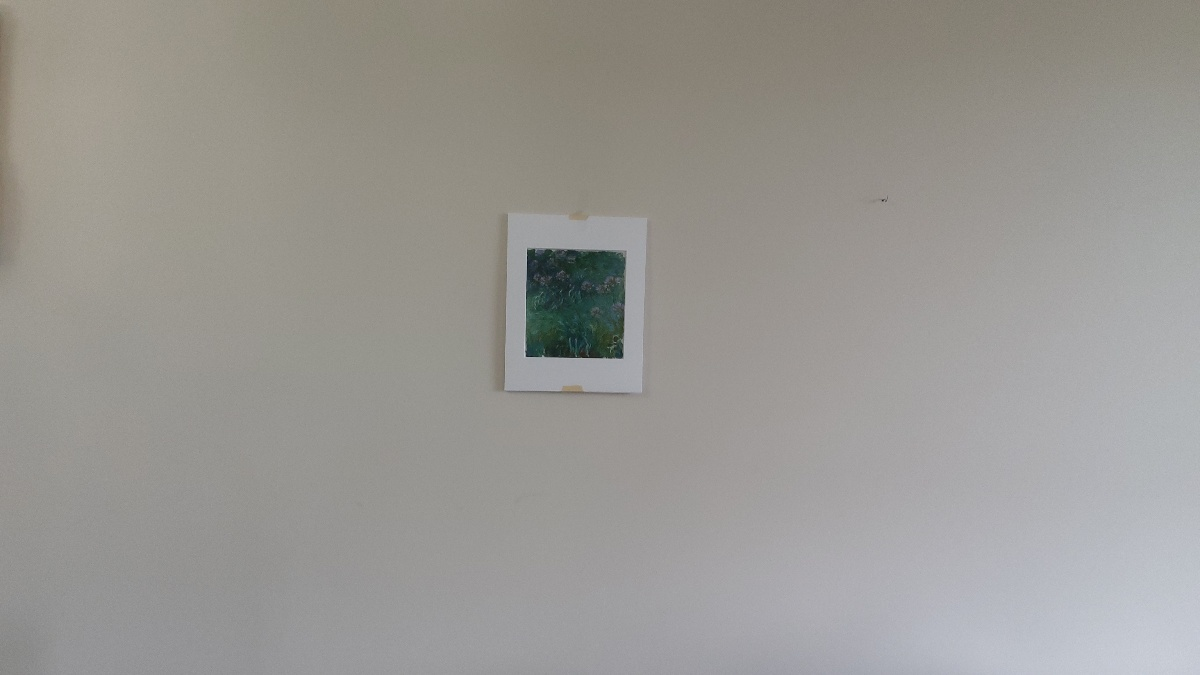painting: (521, 238, 629, 372)
